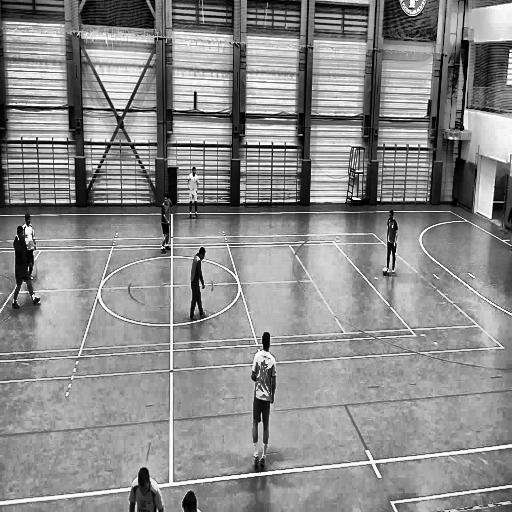ball: (382, 266, 388, 278)
player: (250, 331, 276, 474), (190, 244, 208, 320), (13, 226, 28, 312), (160, 194, 174, 255), (386, 208, 399, 268), (187, 166, 201, 221), (24, 211, 36, 239)
